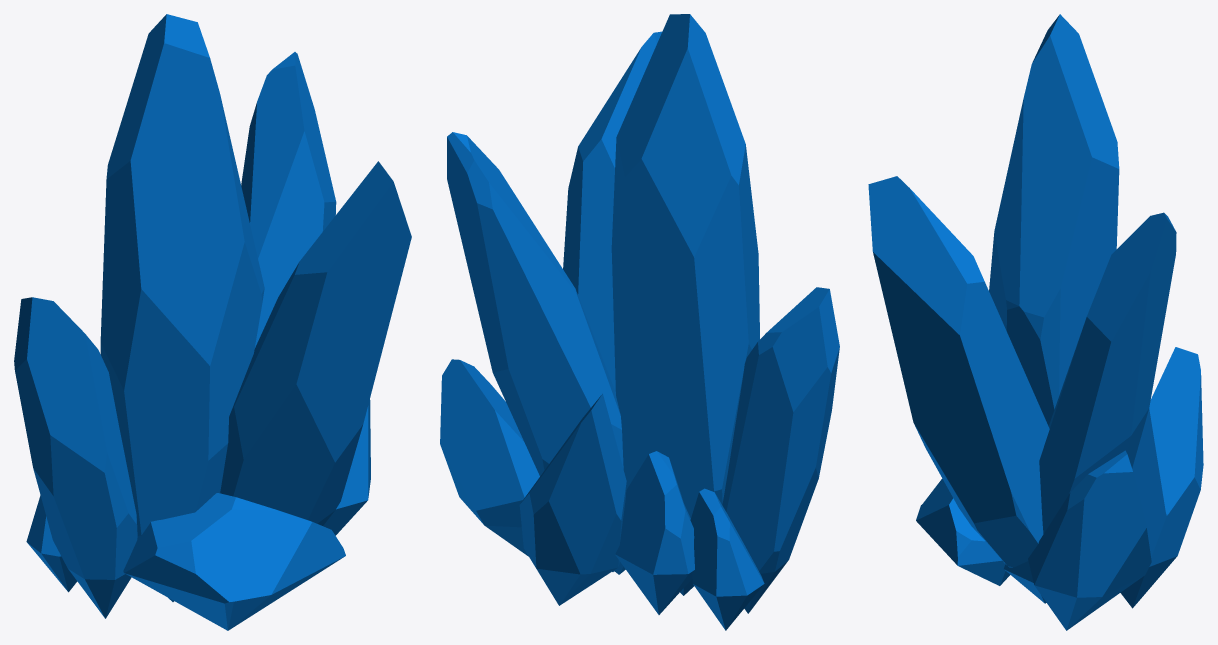
The model's file is Crystal_01.glb.
The picture shows the model from 3 angles, left to right: view 1: azimuth 30°, elevation 25°; view 2: azimuth 150°, elevation 25°; view 3: azimuth 270°, elevation 25°; orthographic projection. The views are drawn at different scales.
Visible parts, largest first — view 1: Crystal_01; view 2: Crystal_01; view 3: Crystal_01.
Part boxes in pixels (left/top/right/bottom): Crystal_01: left=14, top=14, right=411, bottom=630; Crystal_01: left=440, top=14, right=839, bottom=630; Crystal_01: left=868, top=14, right=1203, bottom=630.
Size of what is drawn, in the model's own units: 1.16 by 1.84 by 0.9983.
Materials: 1 (1 with a texture image).
